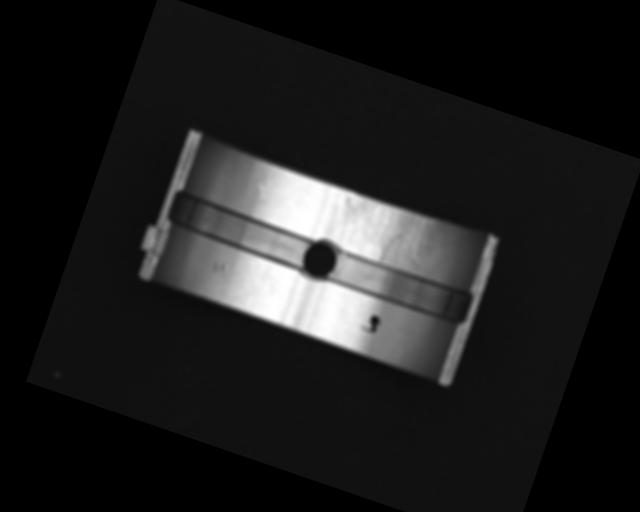blot: (360, 312, 383, 335)
bruise: (210, 260, 227, 276)
gap: (164, 190, 314, 270), (323, 246, 472, 326)
hole: (298, 233, 344, 286)
nick: (248, 181, 276, 221)
scratch: (331, 191, 440, 276)
